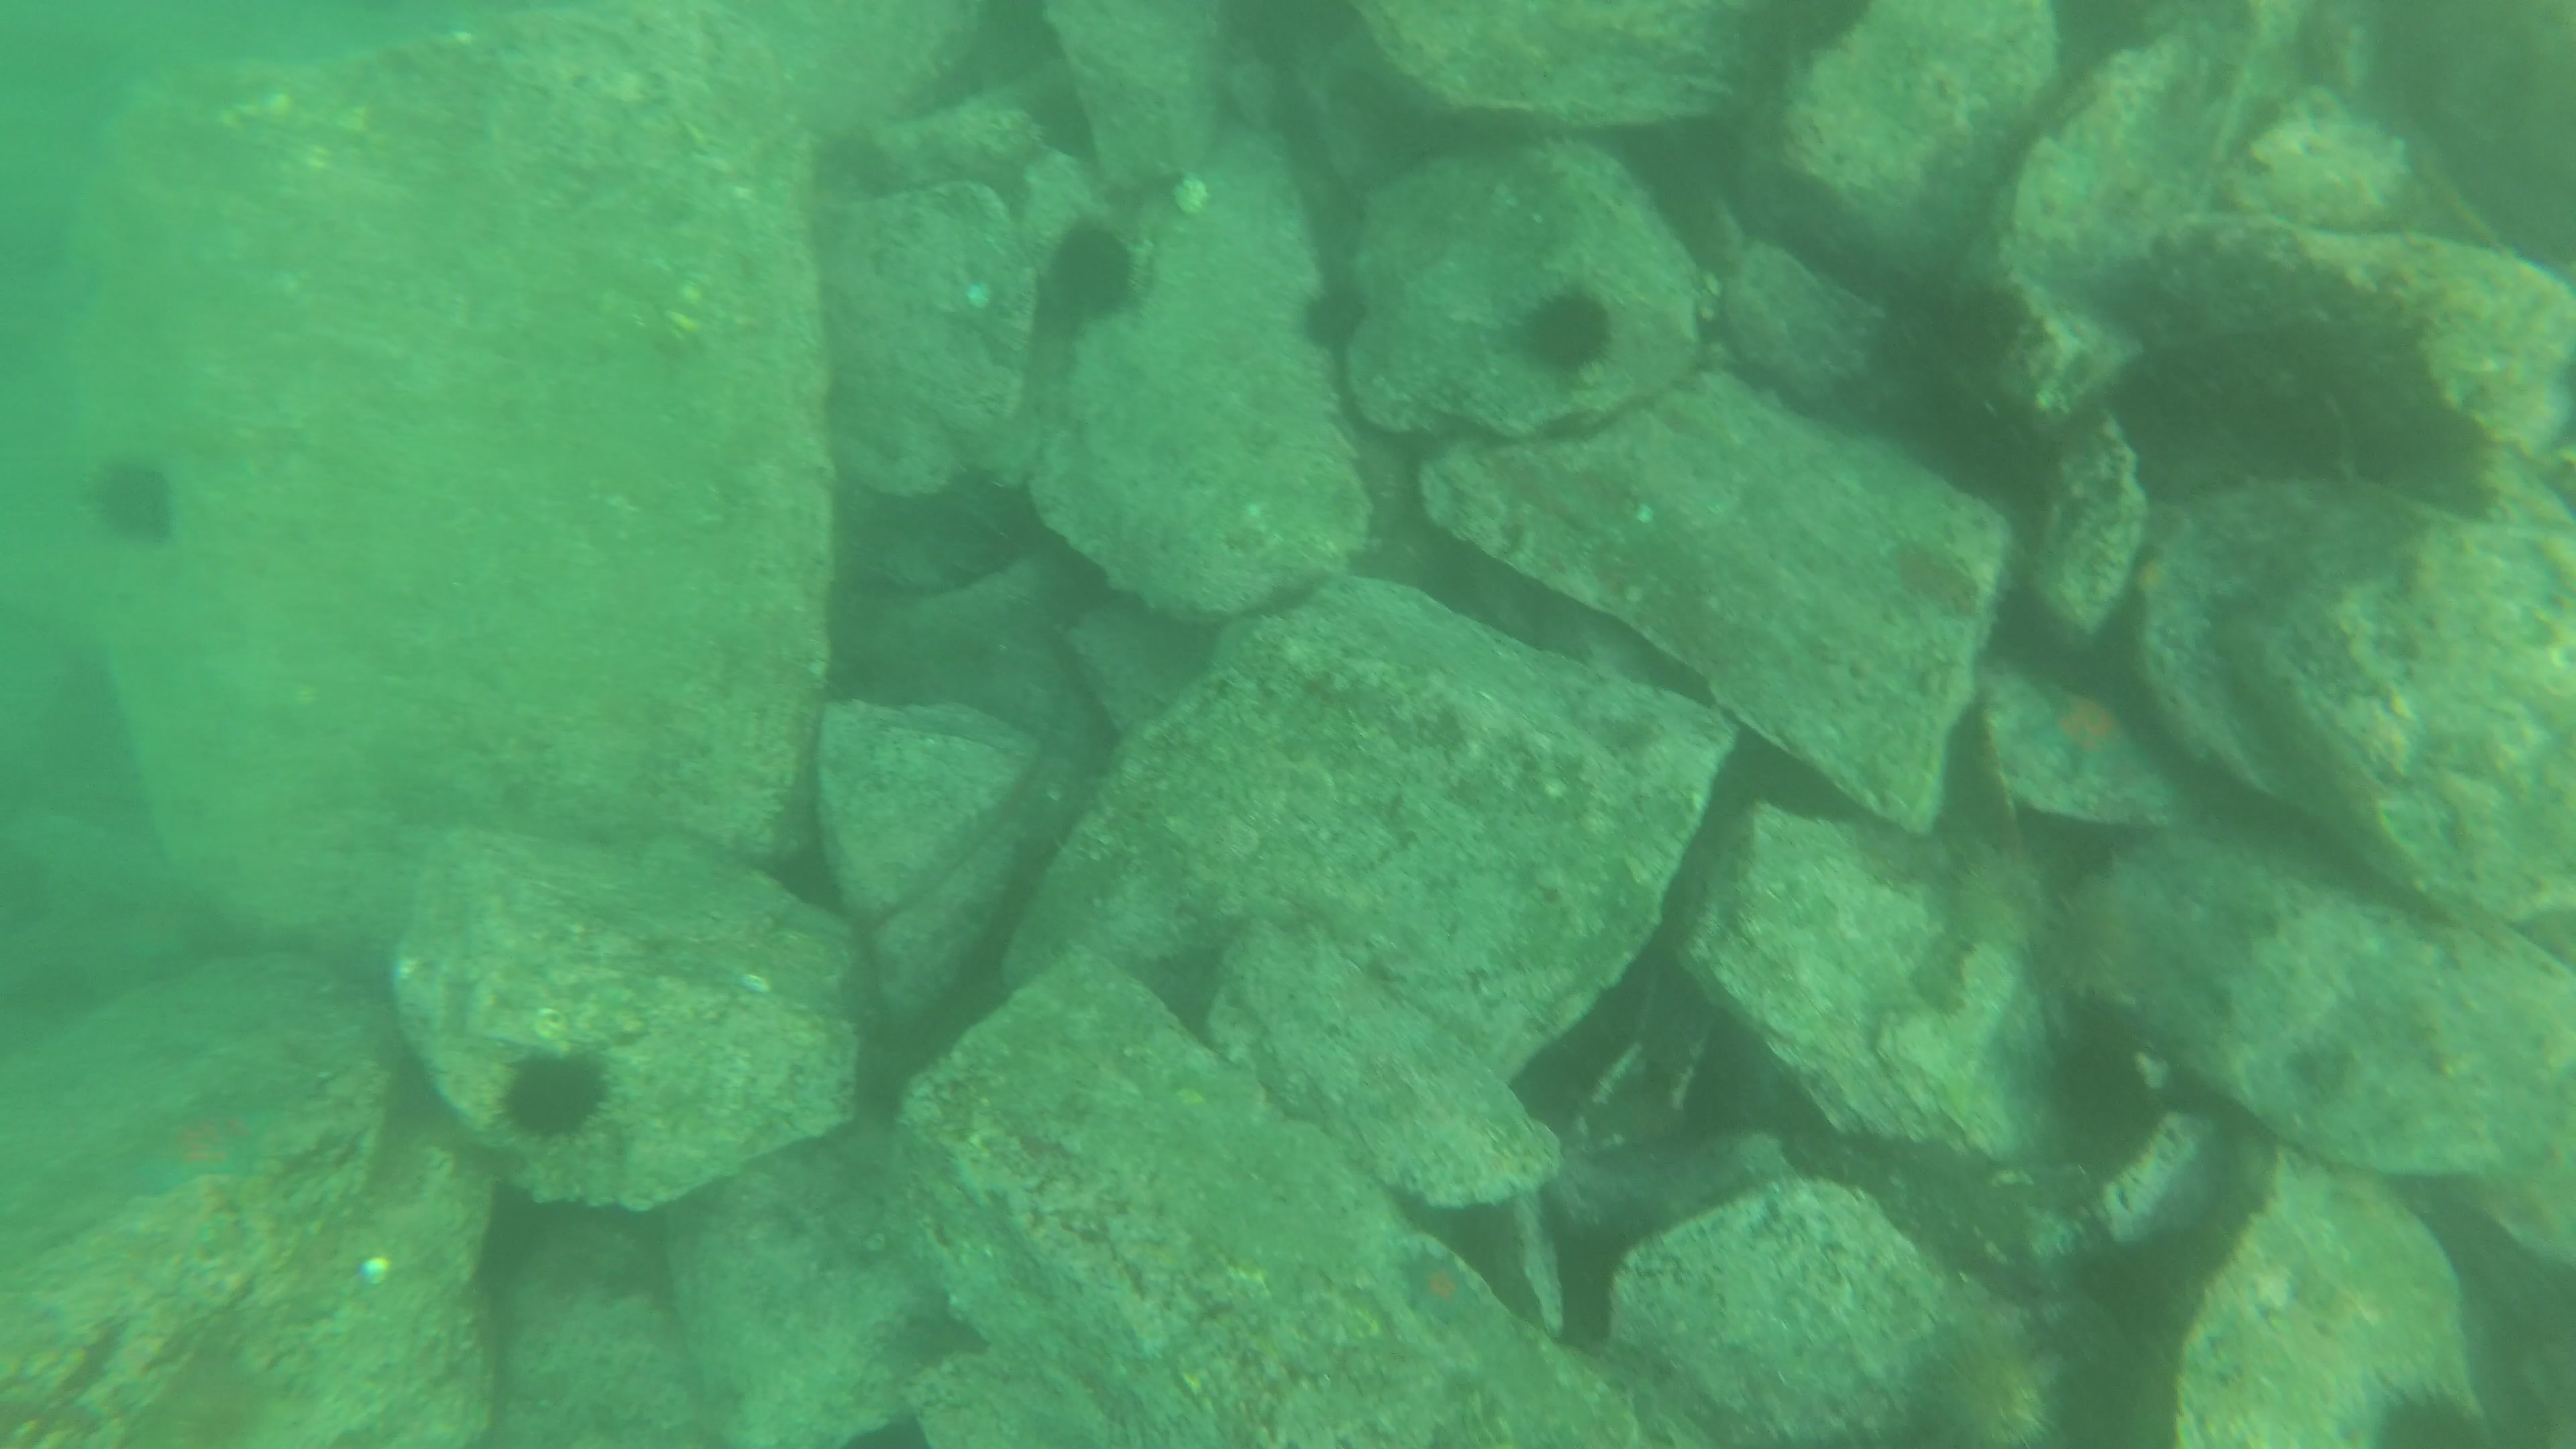echinus: (1927, 1339, 2063, 1449), (492, 1049, 607, 1139), (1046, 214, 1139, 320), (2371, 1376, 2502, 1449), (74, 460, 186, 533), (1523, 292, 1624, 366), (1302, 281, 1376, 350)
starfish: (134, 1092, 285, 1198), (2017, 679, 2150, 791), (1401, 1256, 1499, 1322)
